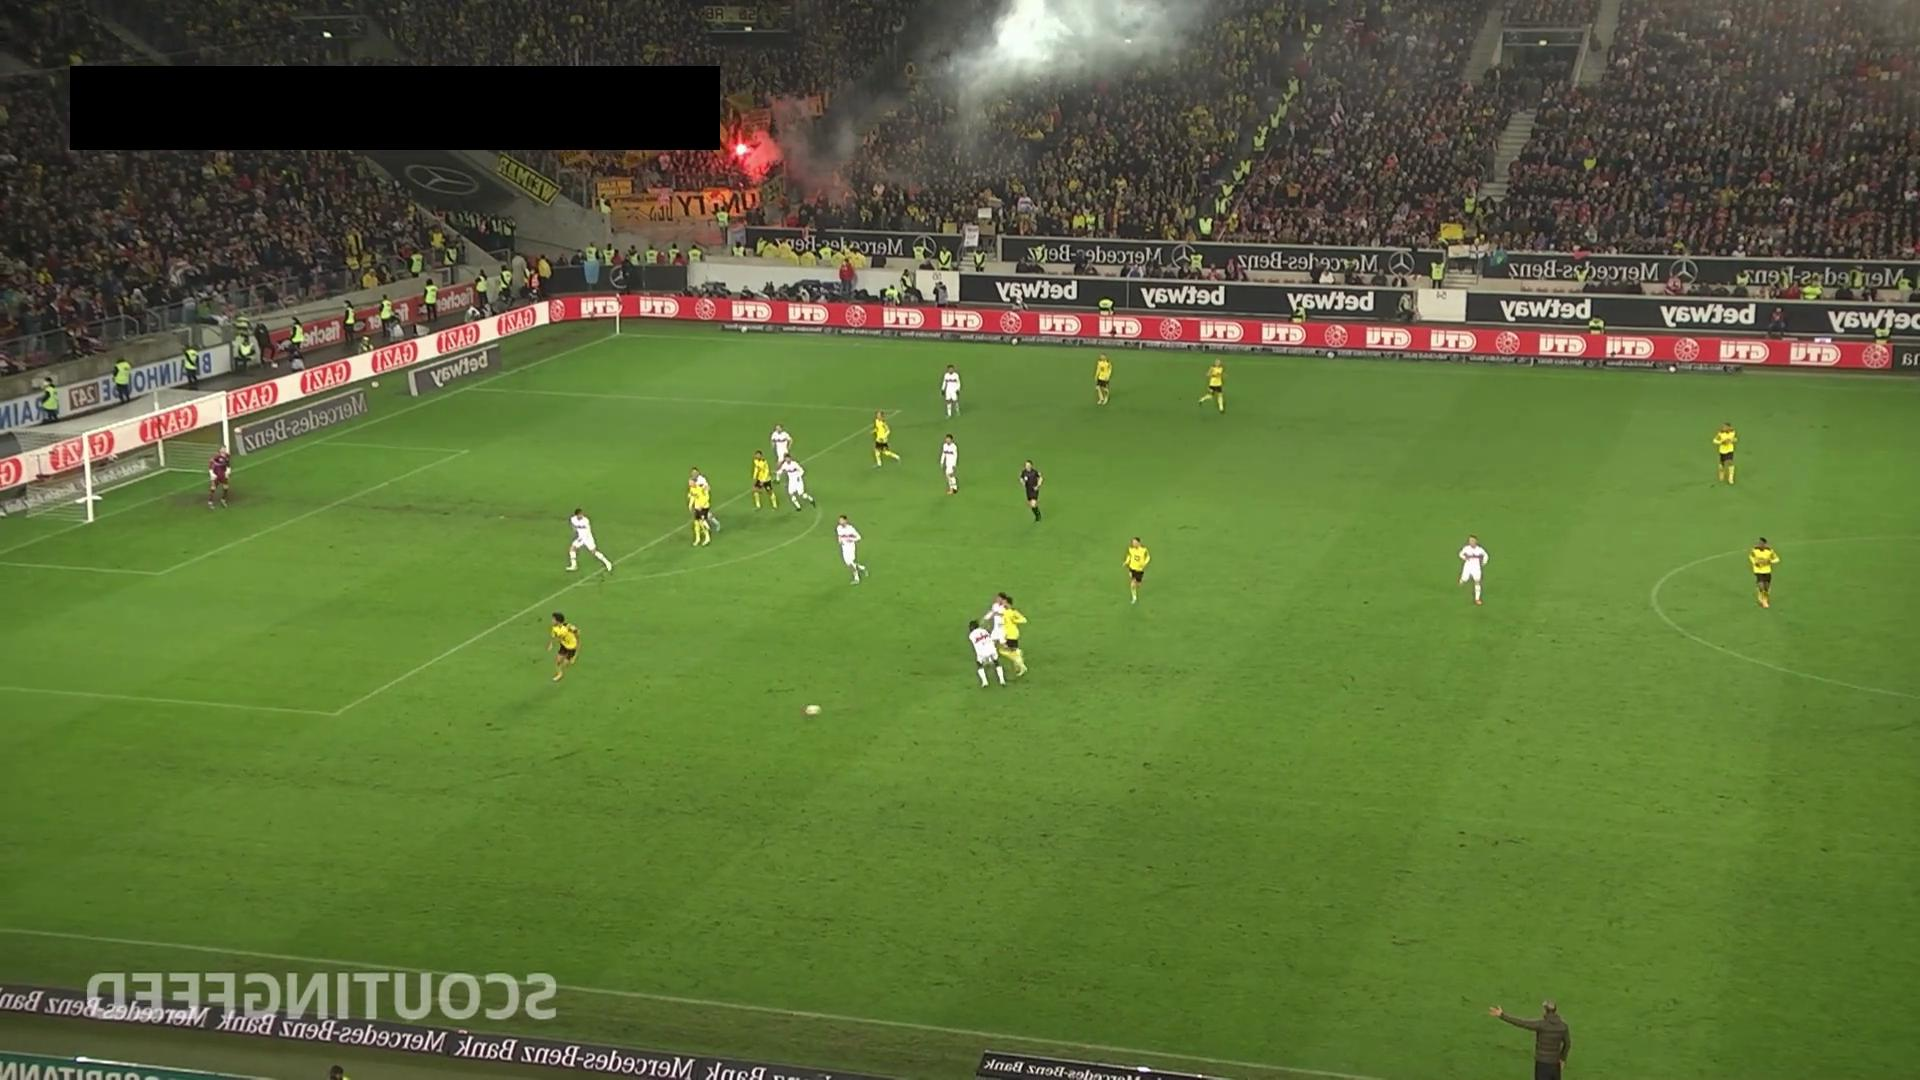ball: (803, 704, 822, 717)
goalkeeper: (206, 445, 232, 510)
player: (564, 506, 613, 575), (967, 618, 1008, 688), (981, 591, 1017, 666), (1748, 536, 1781, 608), (835, 513, 867, 585), (1001, 598, 1029, 680), (1457, 534, 1489, 605), (548, 612, 580, 682), (777, 454, 816, 511), (686, 466, 713, 548), (1123, 536, 1151, 605), (750, 449, 779, 511), (1198, 356, 1227, 414), (872, 411, 902, 467), (1712, 421, 1738, 485), (940, 433, 959, 495), (770, 422, 793, 472), (941, 364, 961, 418), (1094, 353, 1113, 406)
referee: (1019, 459, 1043, 522)
